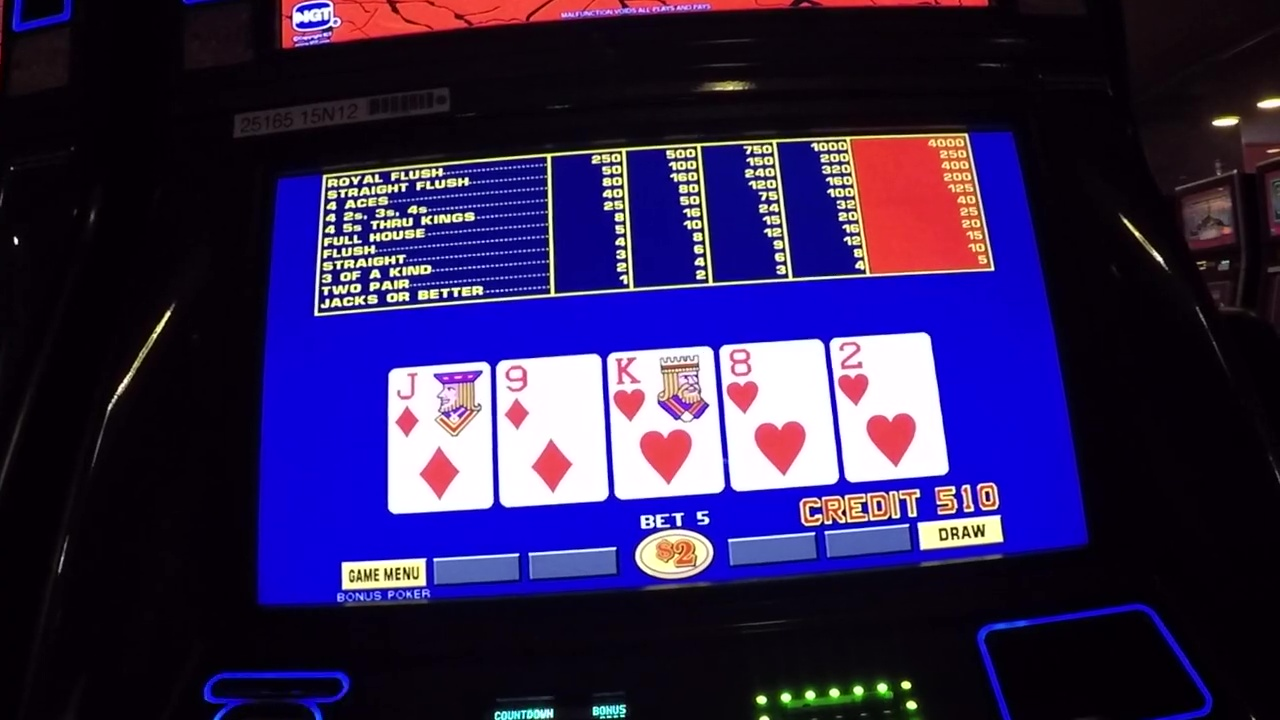D9: (499, 361, 600, 431)
DJ: (392, 370, 489, 439)
H2: (838, 340, 933, 410)
H8: (724, 347, 827, 415)
HK: (612, 355, 713, 427)
